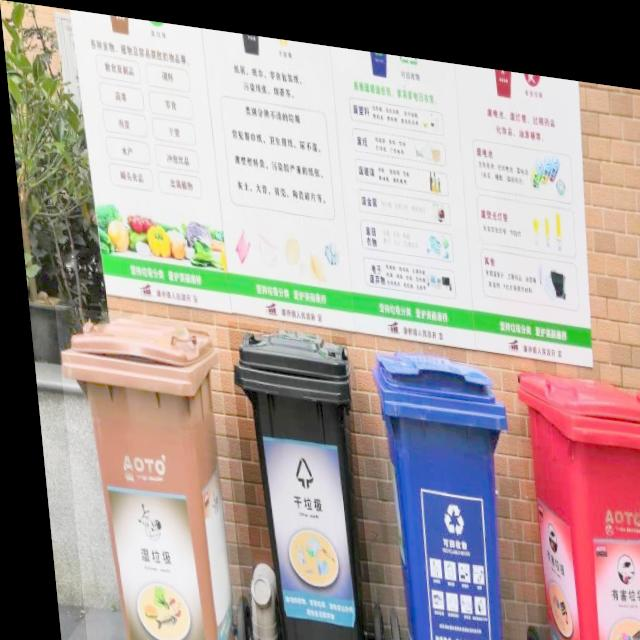garbage_bin: (49, 304, 235, 640), (364, 337, 520, 640), (222, 315, 367, 640), (508, 352, 640, 640)
